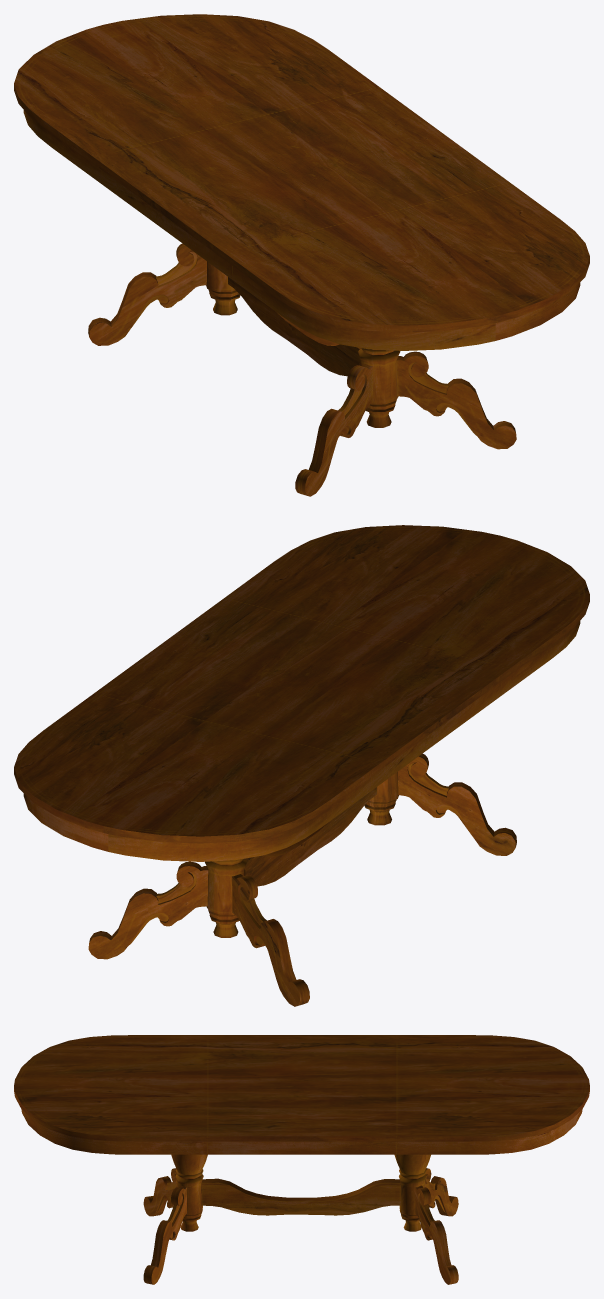
File: Table.obj
3 renders of one model, top to bottom at view 1: azimuth 30°, elevation 25°; view 2: azimuth 150°, elevation 25°; view 3: azimuth 270°, elevation 25°, orthographic. The views are drawn at different scales.
Visible parts, largest first — view 1: Classic_table; view 2: Classic_table; view 3: Classic_table.
Part boxes in pixels (x1,y1,x2,y2): Classic_table: [14, 14, 589, 496]; Classic_table: [14, 525, 589, 1006]; Classic_table: [14, 1035, 589, 1284].
Bounding box in the file's own units: 1.07 × 0.801 × 2.57.
1 material, 1 textured.
